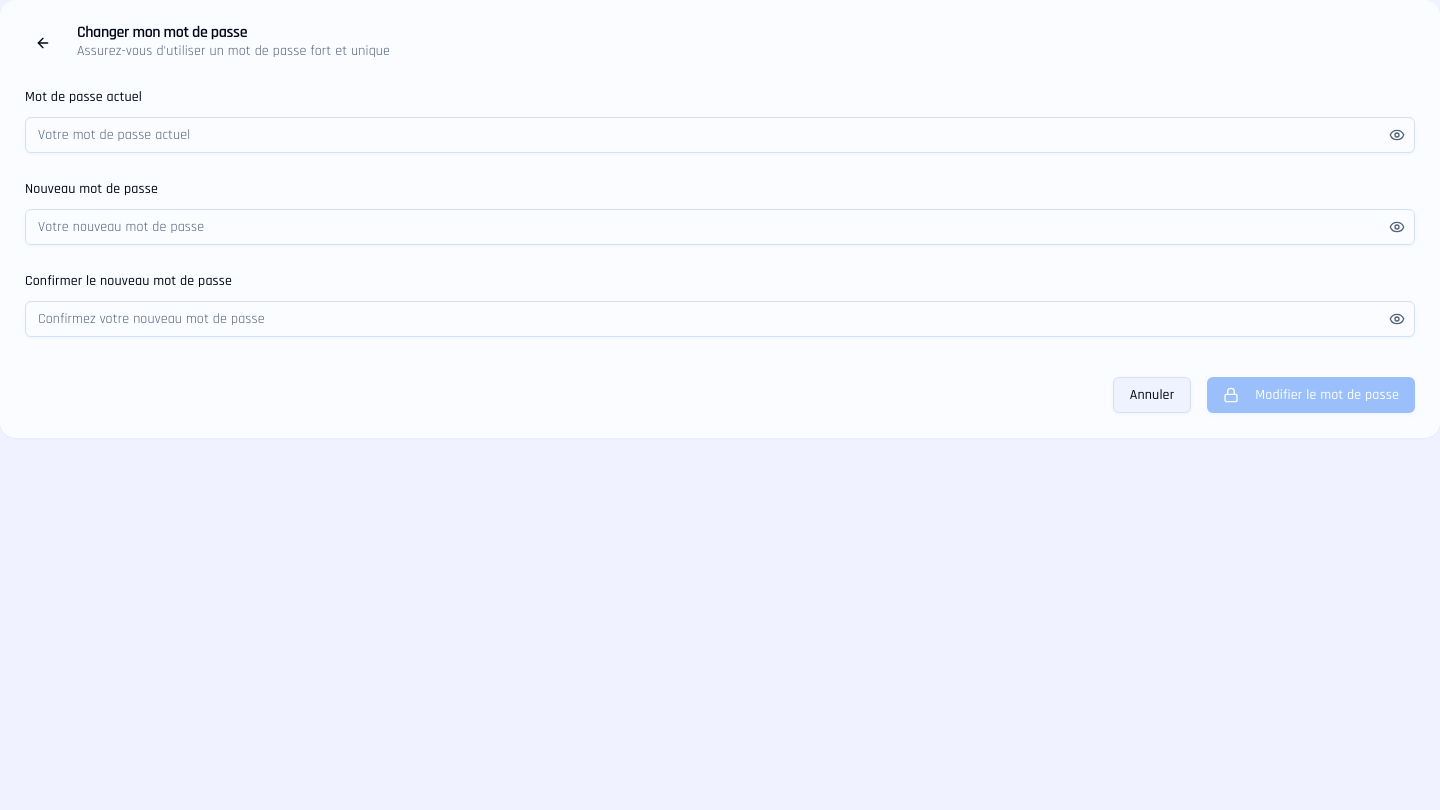
ChangePasswordForm › Validation côté client › should show error when passwords do not match
The width and height of the screenshot is (1440, 810).
Type "OldPass123!" into the password field with test id "input-currentPassword". click: (720, 135)
box: [25,117,1415,153]
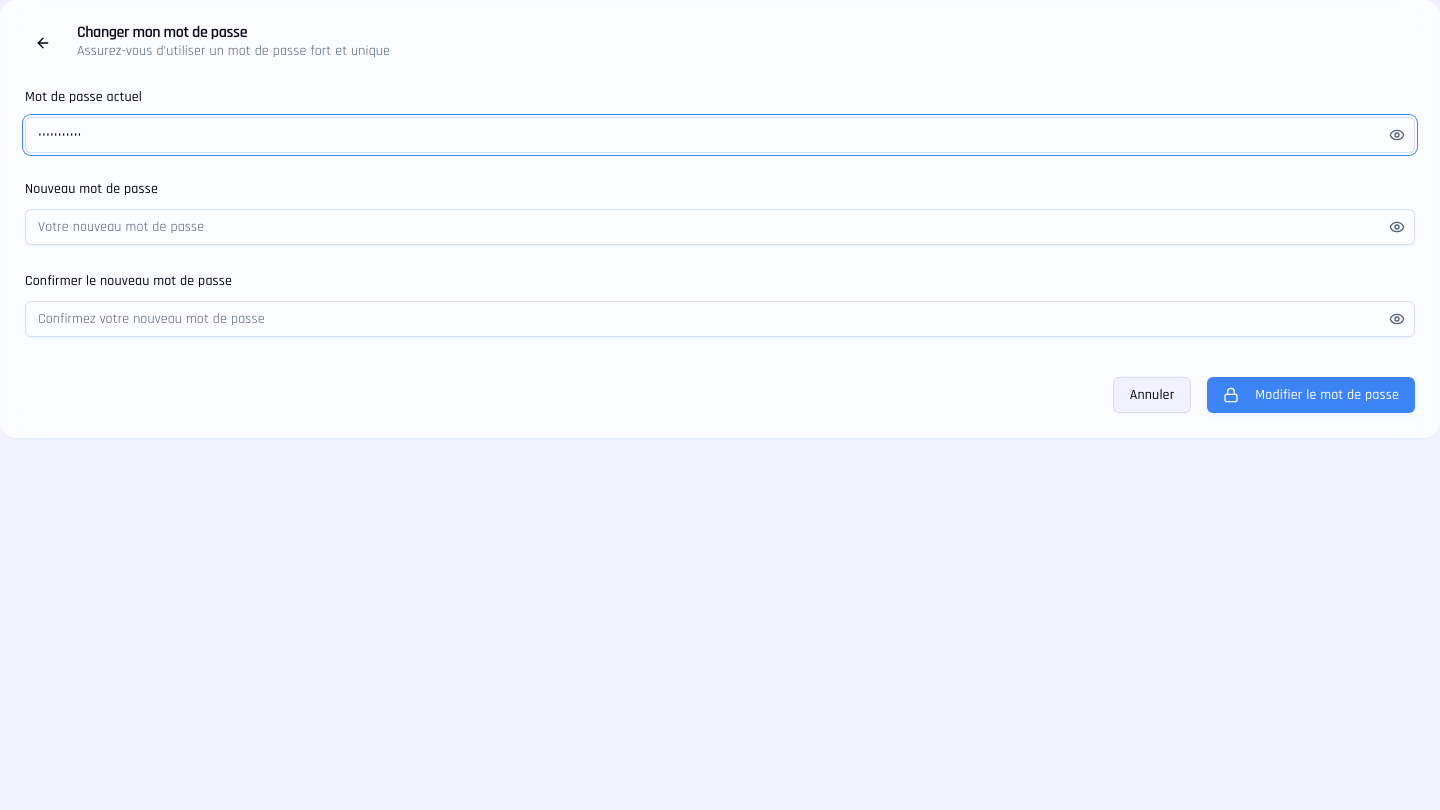
Type "NewPass123!" into the password field with test id "input-newPassword". click: (720, 227)
box: [25,209,1415,245]
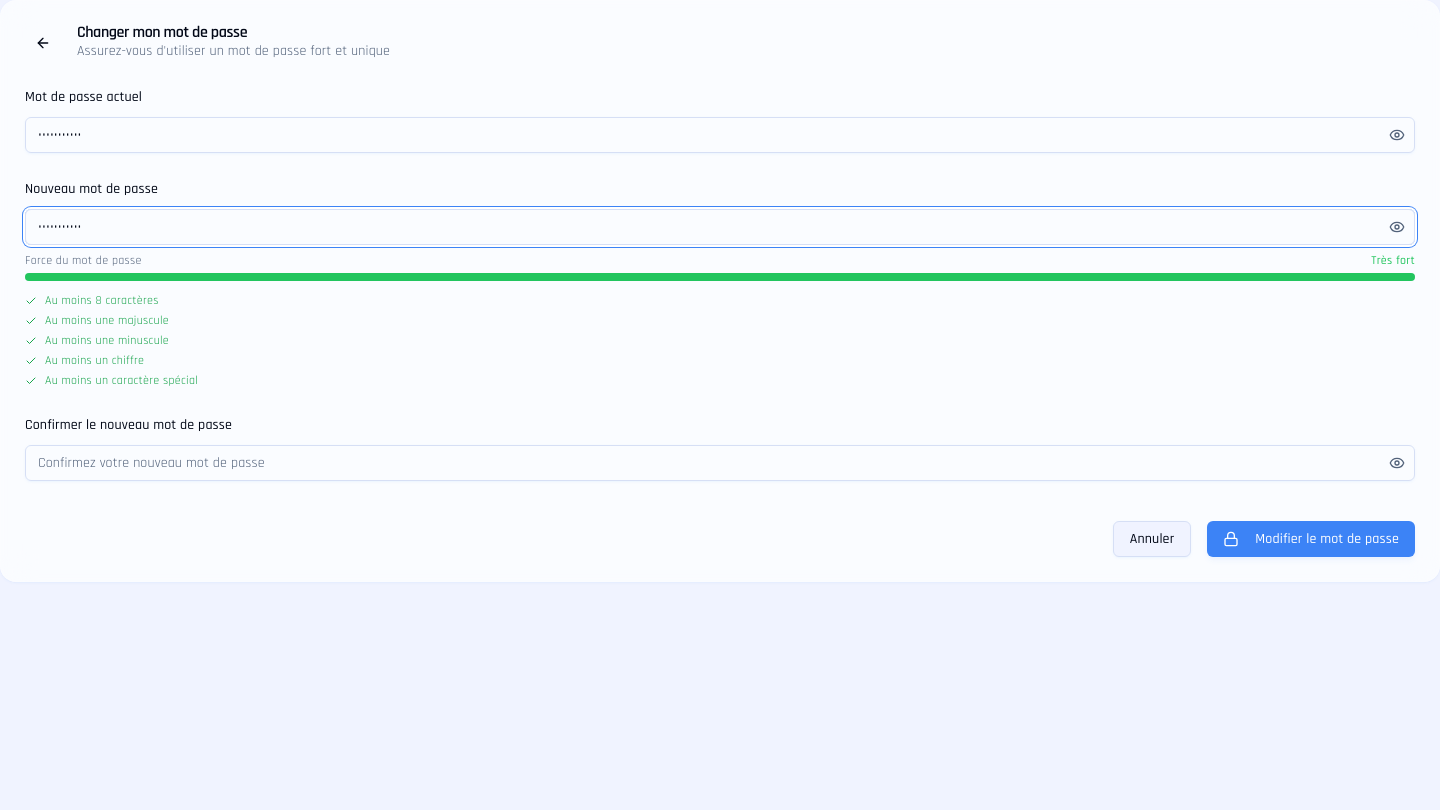
Type "DifferentPass123!" into the password field with test id "input-confirmNewPassword". click: (720, 463)
box: [25,445,1415,481]
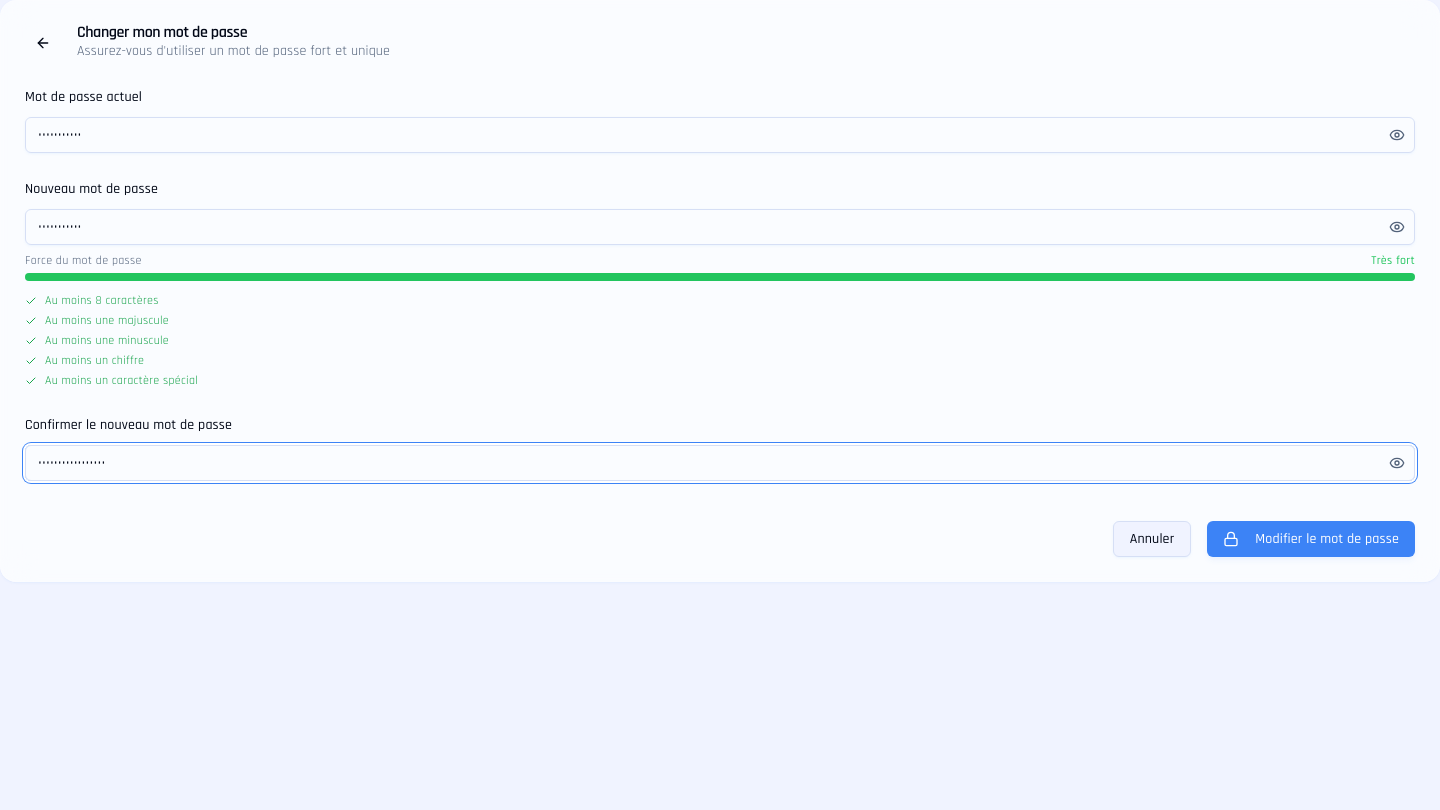
Click the button with test id "submit-button". click: (1311, 539)
box: [1207,521,1415,557]
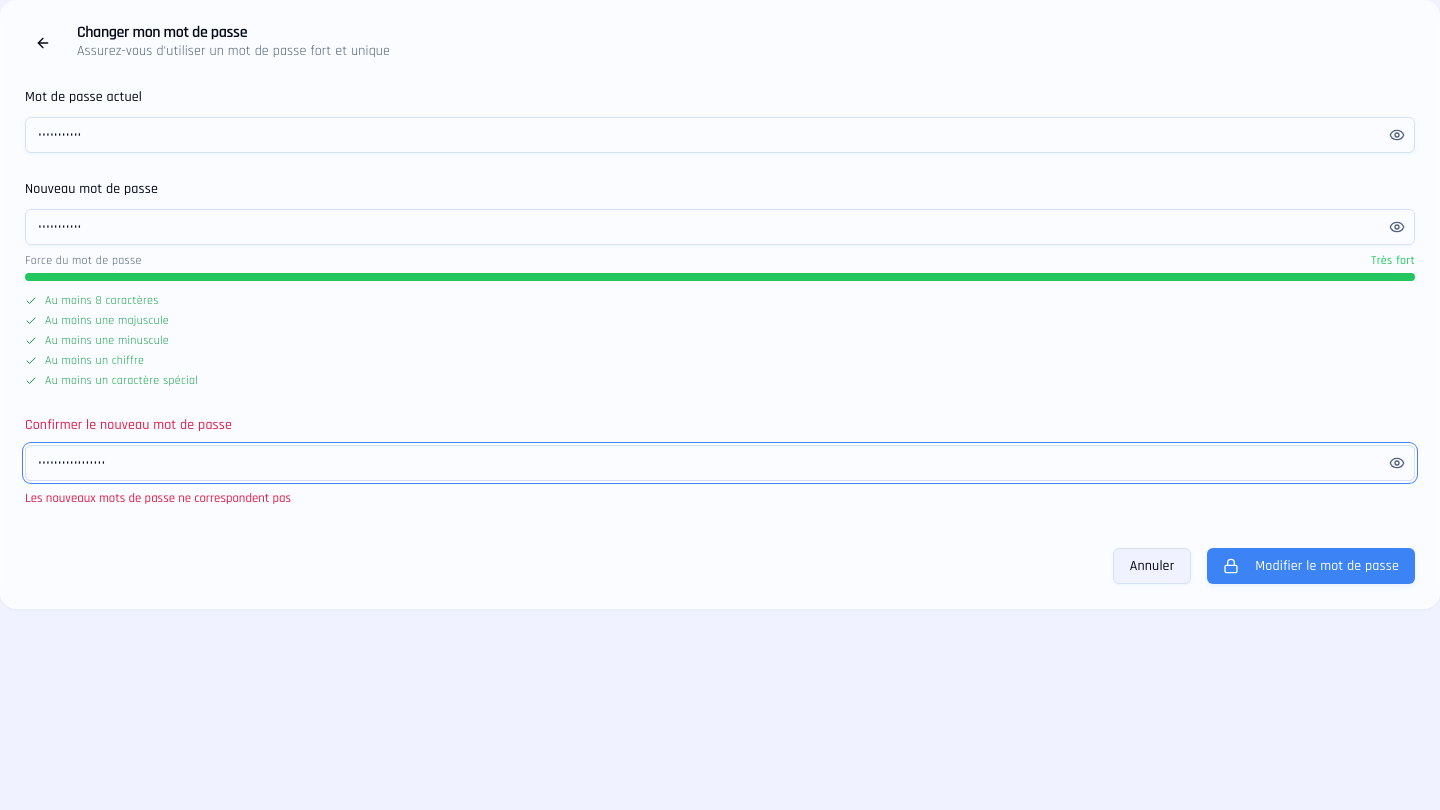
Now the text "Les nouveaux mots de passe ne correspondent pas" is shown, box [25,490,291,506]
